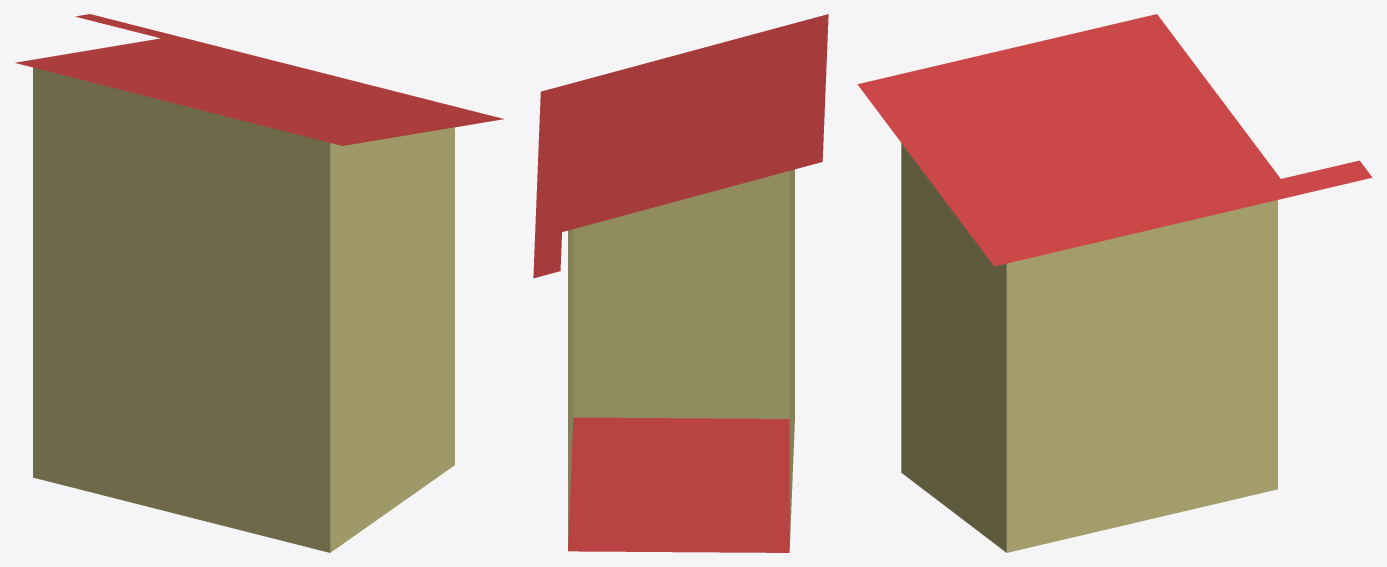
The picture shows the model from 3 angles, left to right: view 1: azimuth 30°, elevation 25°; view 2: azimuth 150°, elevation 25°; view 3: azimuth 270°, elevation 25°; orthographic projection. The views are drawn at different scales.
Size of the model in its own units: 6.37 by 7.95 by 6.52.
